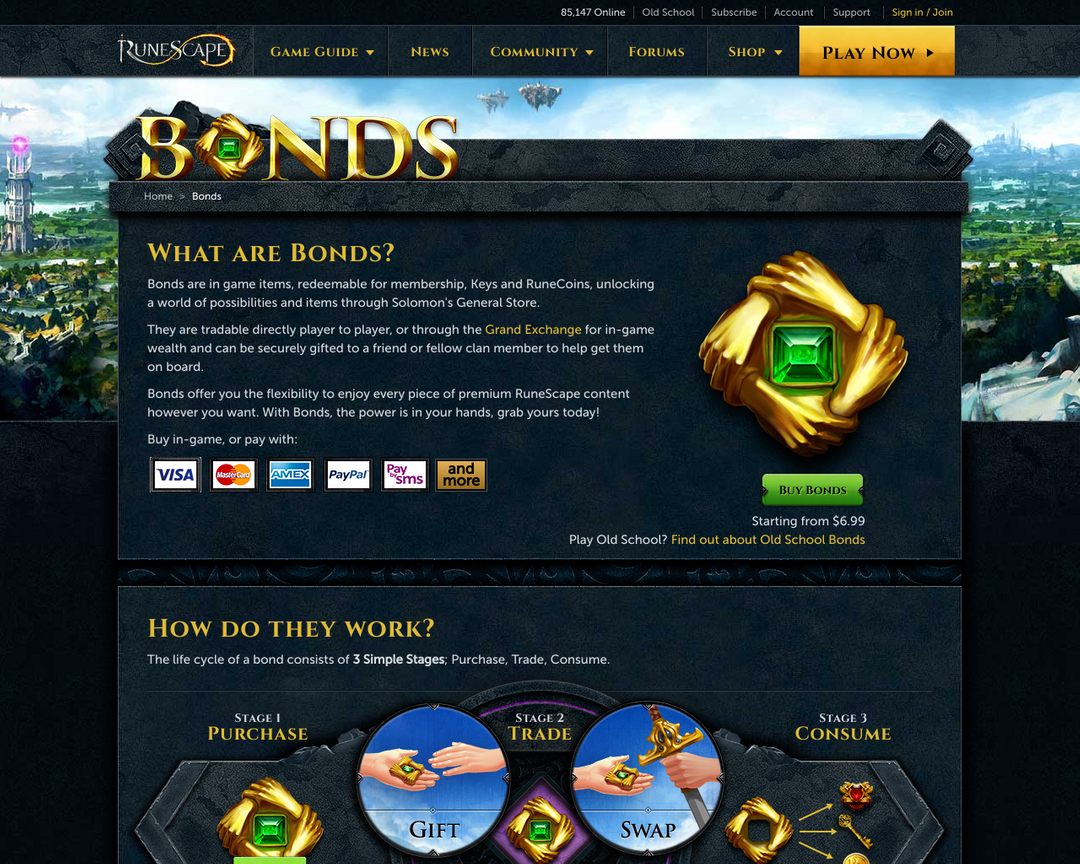Runescape: (115, 30, 238, 73)
